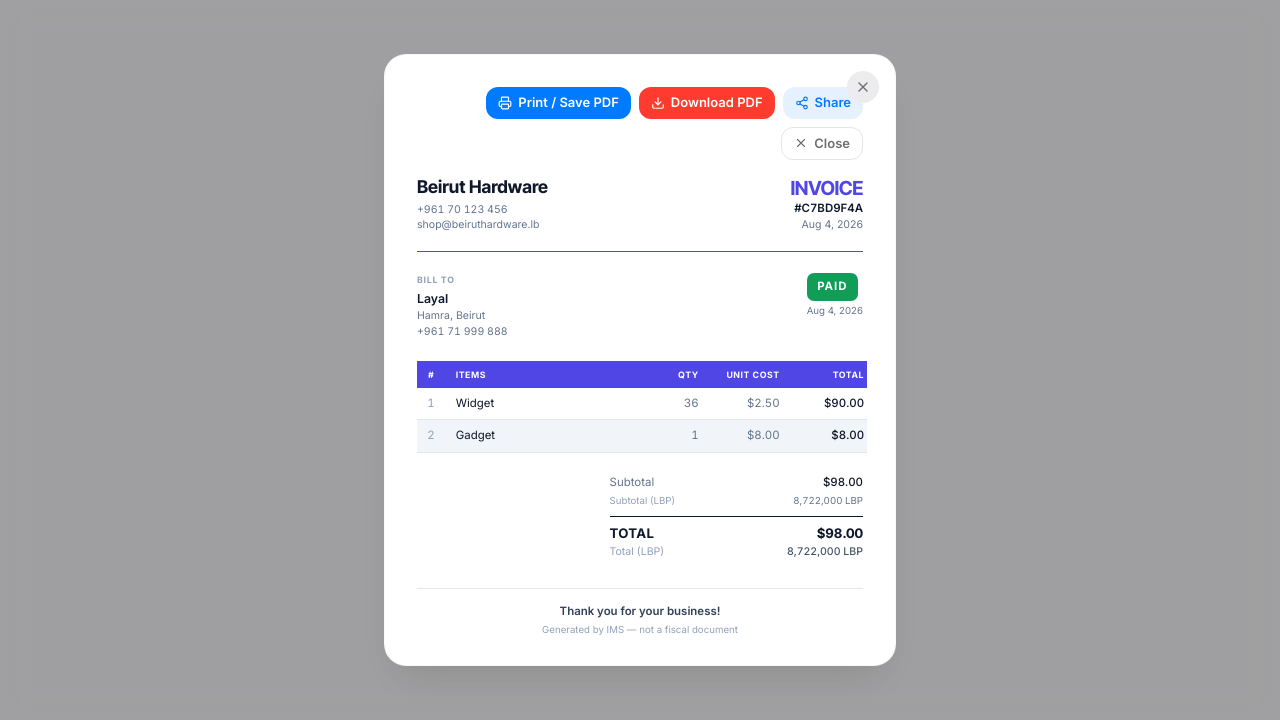
Test: Invoice sharing › collapses both send targets behind one control
The image size is (1280, 720).
Expected: the button "whatsapp" is not shown
Expected: the button "telegram" is not shown
Click the button "Share": click(823, 103) [782, 87, 863, 118]
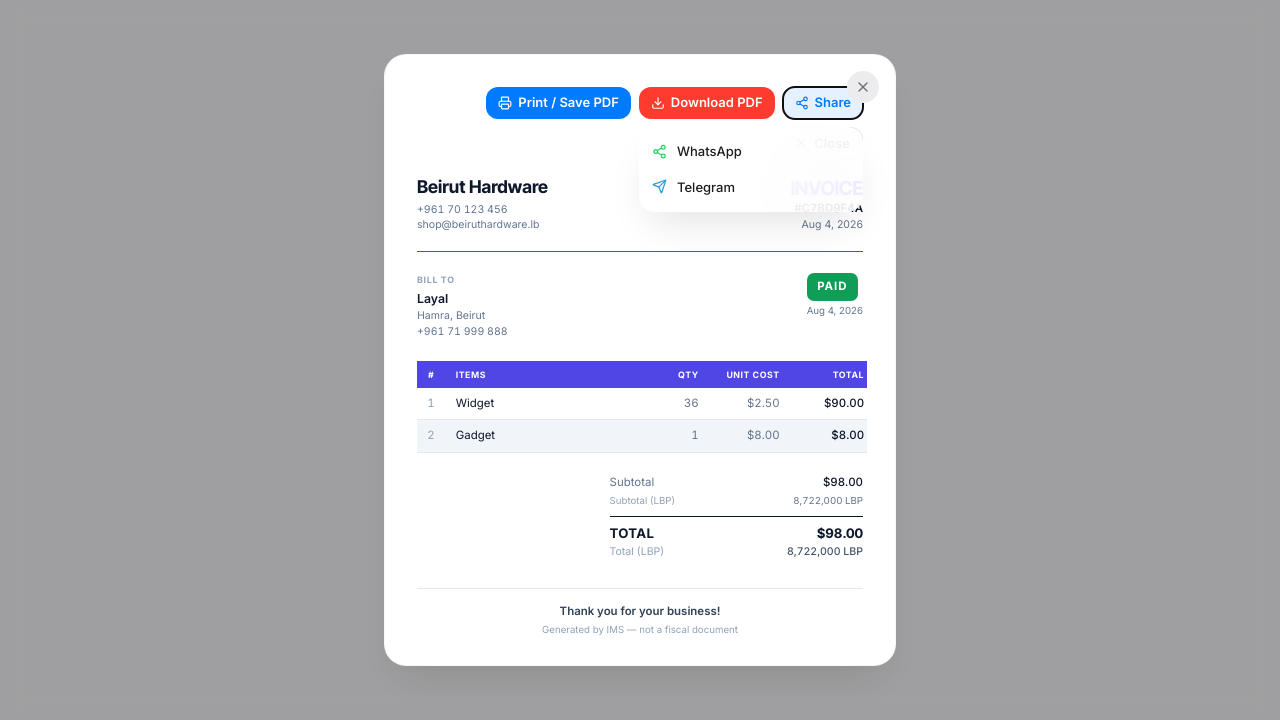
Expected: the menu item "WhatsApp" is shown, [640, 134, 862, 169]
Expected: the menu item "Telegram" is shown, [640, 169, 862, 204]
